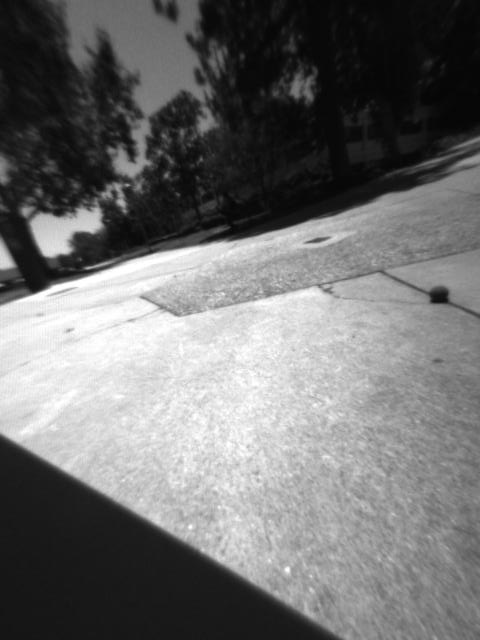dogtoy: (424, 274, 459, 313)
